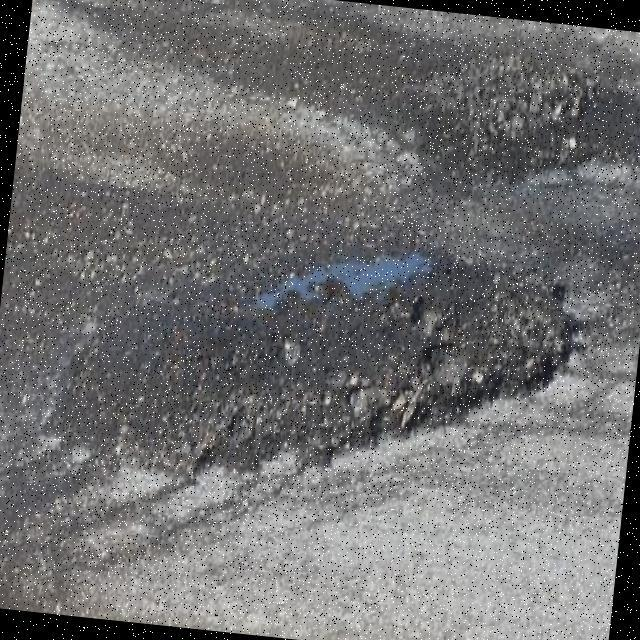Pothole: (60, 233, 570, 470)
